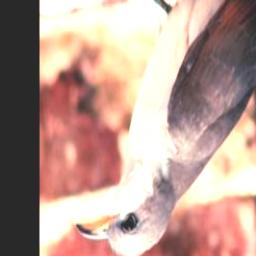Cuckoo: (75, 0, 256, 256)
